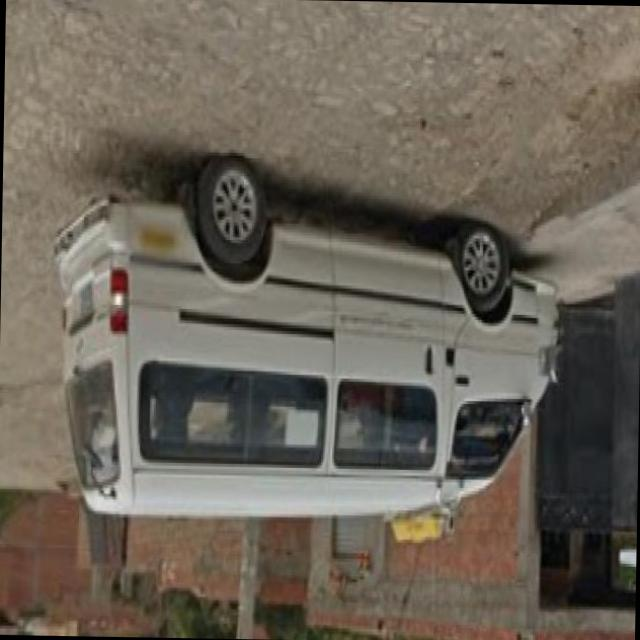car: (68, 152, 564, 526)
